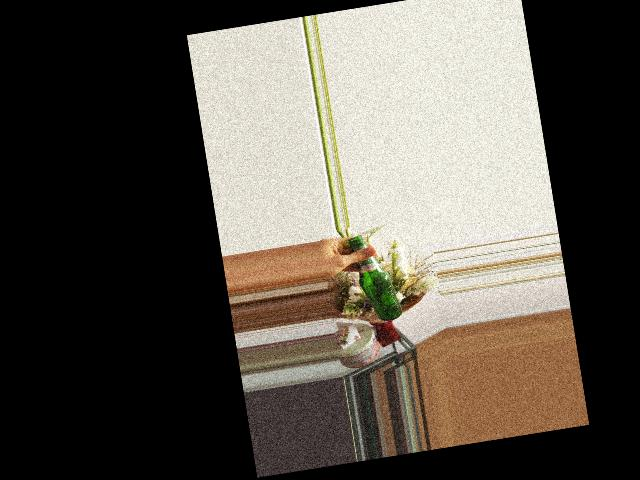beer: (351, 231, 403, 324)
